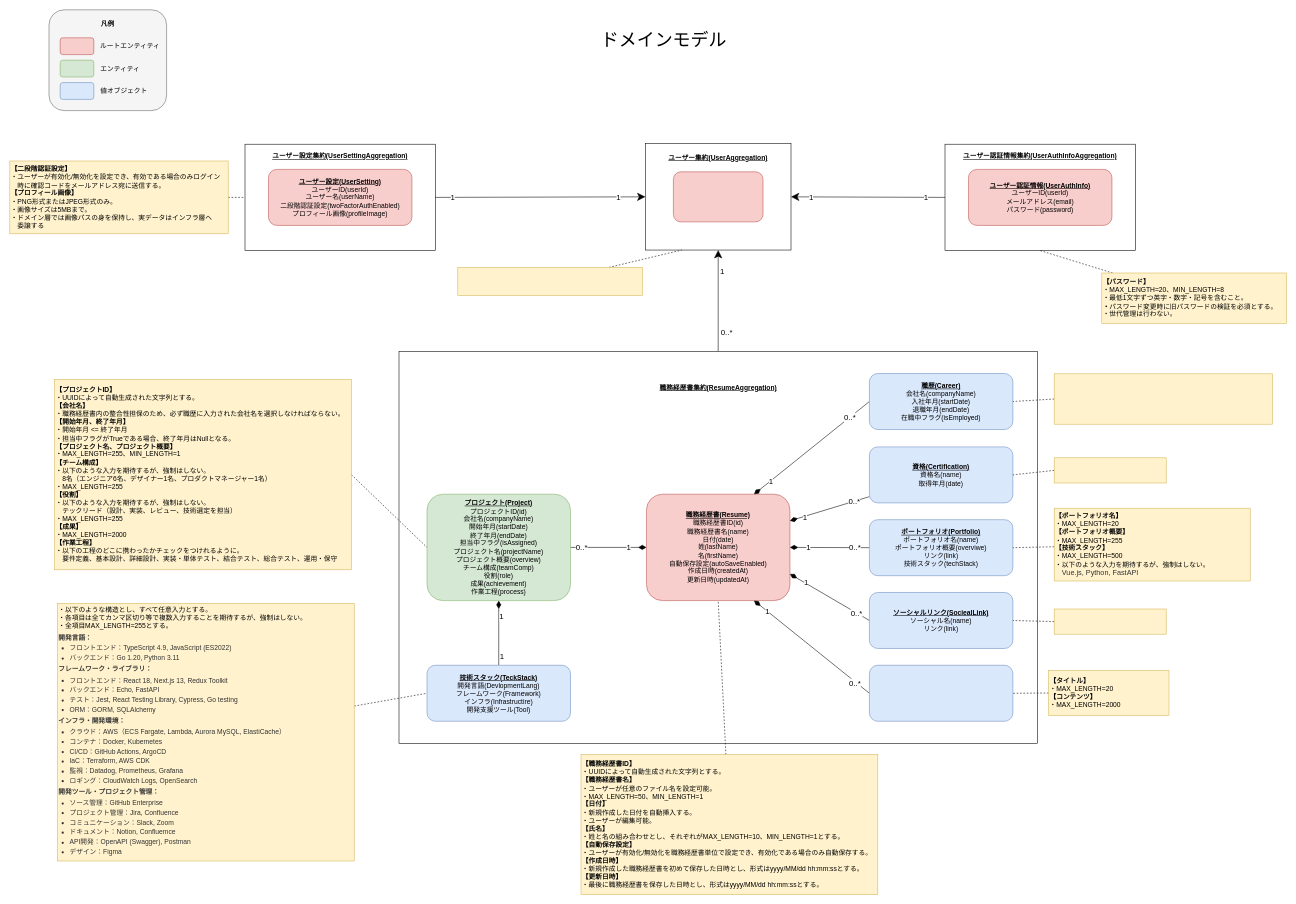
Some shapes in this 1296 by 904 pixel diagram are drawn without their labels. The centre of each missing label's shape, as x and y in pixels:
【ソーシャル名】 ・MAX_LENGTH=20: the point at 1110,621
【ユーザーID】 ・ UUIDによって自動生成された文字列とする。: the point at 550,281
【会社名】 ・MAX_LENGTH=35 【入社年月、退職年月】 ・入社年月 <= 退職年月 ・在職中フラグがTrueである場合、退職年月はNullとなる。: the point at 1163,398
【資格名】 ・MAX_LENGTH=20: the point at 1110,470
ユーザー(User) ユーザーID(userId) メールアドレス(email): the point at 718,196
自己PR(SelfPromotion) タイトル(title) コンテンツ(content): the point at 941,693
